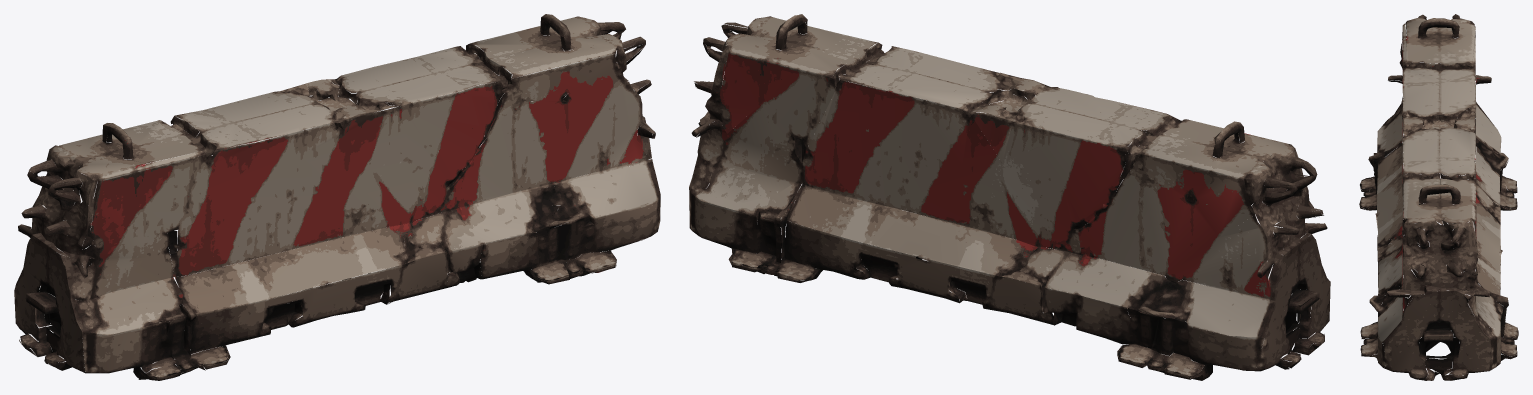
The model's file is yd_barrier.glb.
3 views of the same model, side by side, from view 1: azimuth 30°, elevation 25°; view 2: azimuth 150°, elevation 25°; view 3: azimuth 270°, elevation 25° (orthographic). The views are drawn at different scales.
Parts seen in each view (by area): view 1: yd_barrier; view 2: yd_barrier; view 3: yd_barrier.
Boxes of the visible parts, box(x1,y1,x2,y2) form: yd_barrier: box(14, 14, 660, 380); yd_barrier: box(689, 14, 1330, 380); yd_barrier: box(1359, 14, 1518, 380).
Size of the model in its own units: 1.72 by 0.6235 by 0.5024.
1 material, 1 textured.
